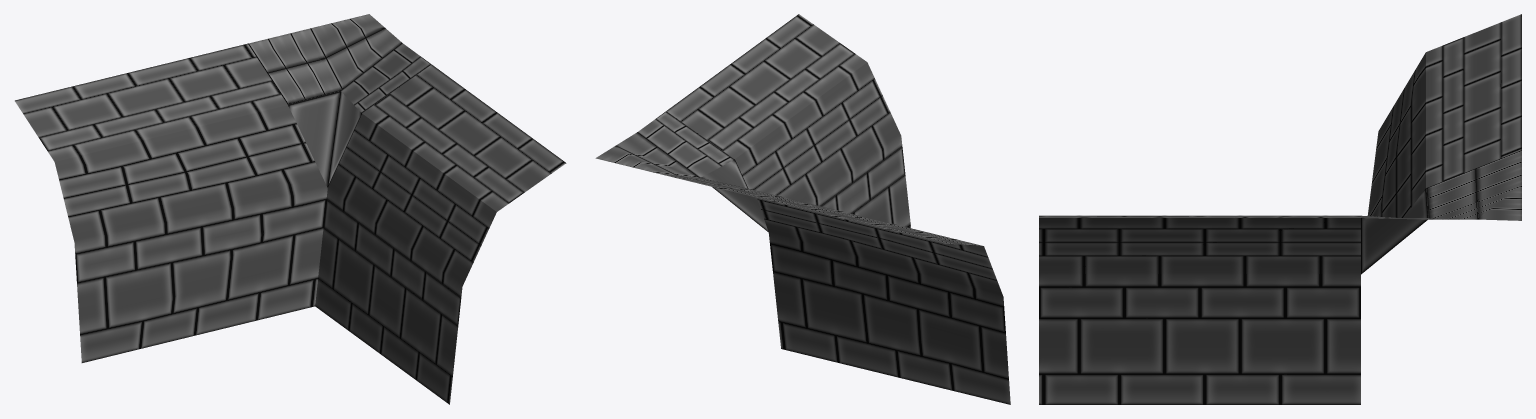
Rendered from Modular_Corner.fbx.
3 views of the same model, side by side, from view 1: azimuth 30°, elevation 25°; view 2: azimuth 150°, elevation 25°; view 3: azimuth 270°, elevation 25° (orthographic). The views are drawn at different scales.
Parts seen in each view (by area): view 1: pPlane47; view 2: pPlane47; view 3: pPlane47.
Boxes of the visible parts, x1=… form: pPlane47: x1=15, y1=14, x2=566, y2=404; pPlane47: x1=595, y1=14, x2=1010, y2=404; pPlane47: x1=1039, y1=14, x2=1521, y2=404.
Size of the model in its own units: 456 by 262 by 450.
